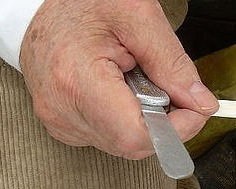knife: (109, 61, 203, 179)
